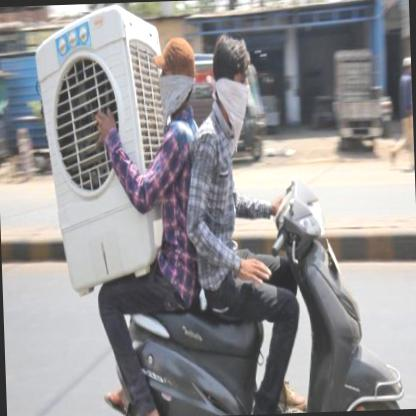motorcycle: (87, 26, 407, 415)
